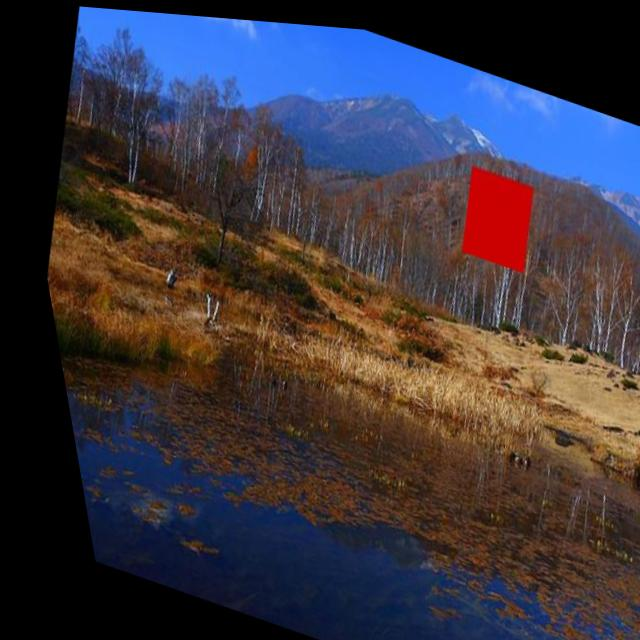RedSquare: (435, 150, 546, 274)
